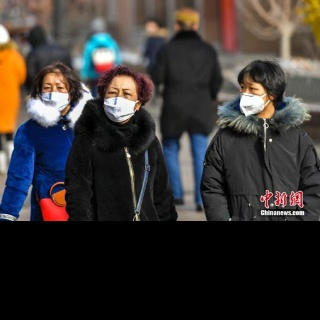with_mask: (103, 85, 138, 122), (239, 78, 268, 115), (40, 80, 68, 108)
